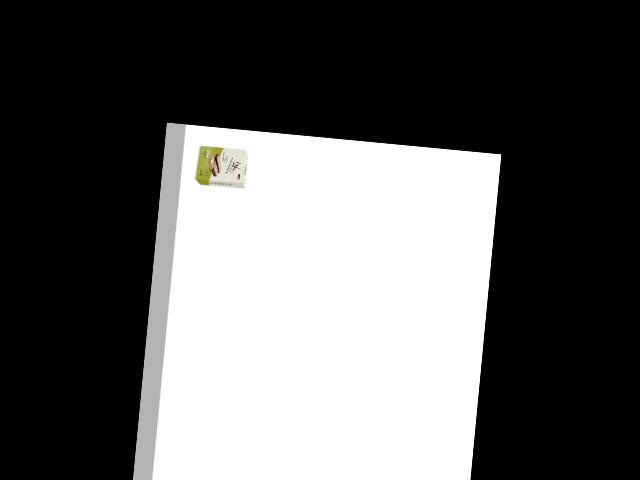chocolate: (192, 140, 250, 191)
